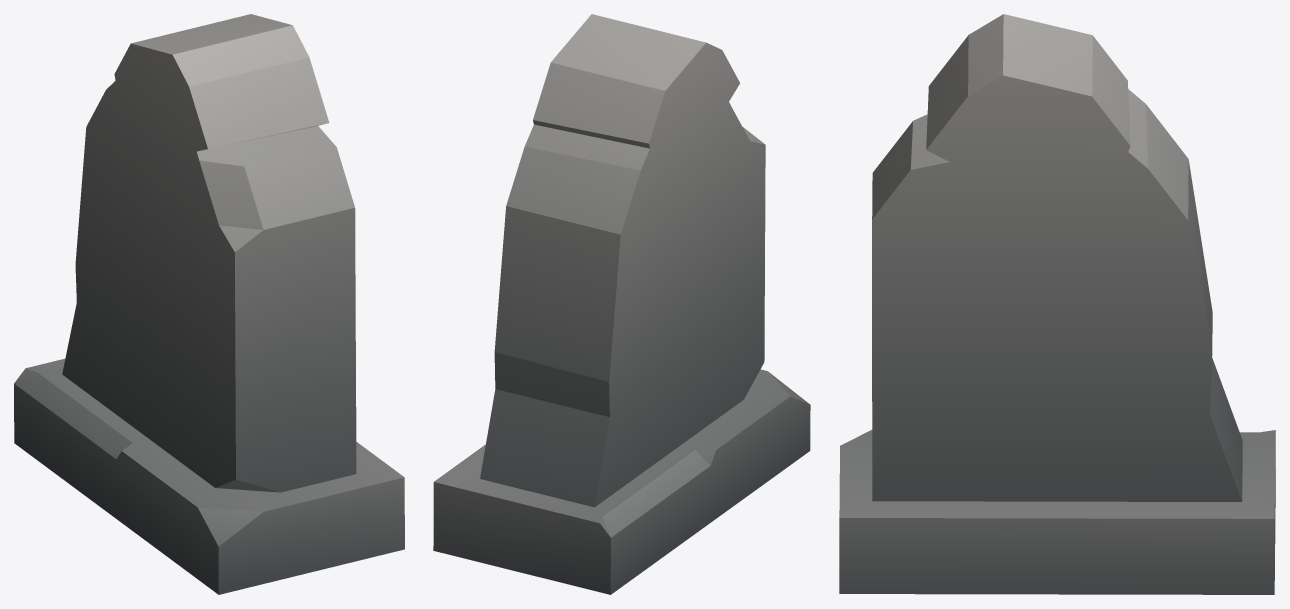
Rendered from m_tombstones.fbx.
3 views of the same model, side by side, from view 1: azimuth 30°, elevation 25°; view 2: azimuth 150°, elevation 25°; view 3: azimuth 270°, elevation 25° (orthographic). The views are drawn at different scales.
Visible parts, largest first — view 1: tombStone1; view 2: tombStone1; view 3: tombStone1.
Boxes of the visible parts, x1,y1,x2,y2 form: tombStone1: [14, 14, 404, 594]; tombStone1: [433, 14, 810, 594]; tombStone1: [839, 14, 1275, 594].
Bounding box in the file's own units: 40.5 × 98.1 × 77.31.
